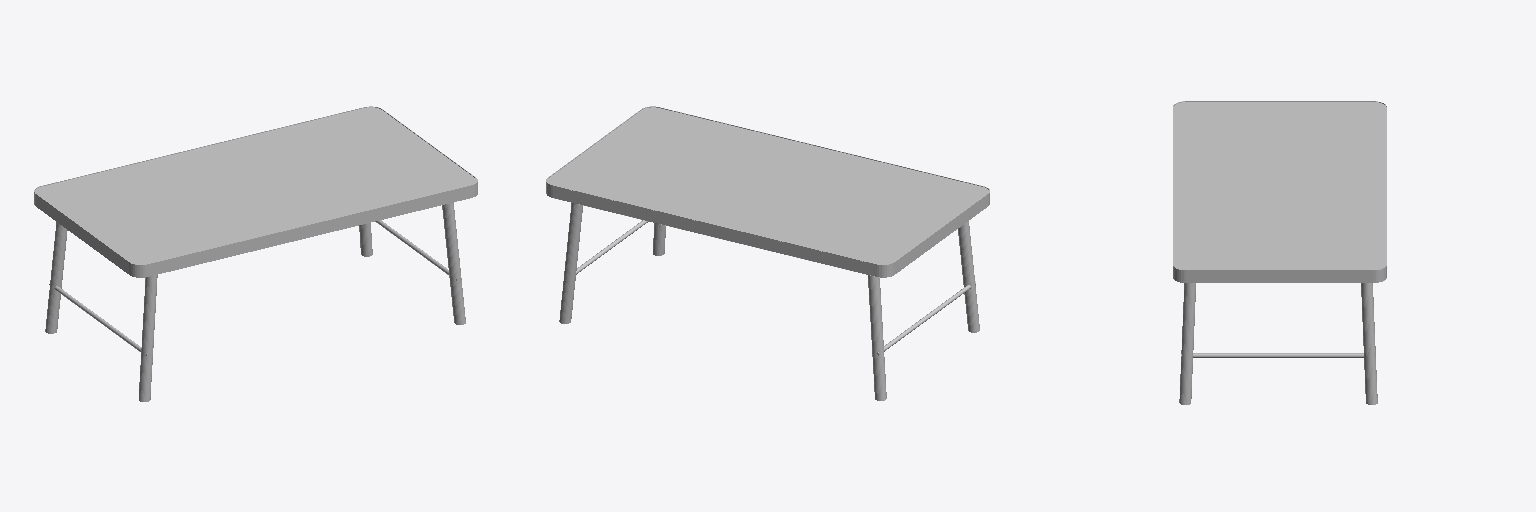
The model's file is table.obj.
3 views of the same model, side by side, from view 1: azimuth 30°, elevation 25°; view 2: azimuth 150°, elevation 25°; view 3: azimuth 270°, elevation 25° (orthographic).
Visible parts, largest first — view 1: Table_Plane.015; view 2: Table_Plane.015; view 3: Table_Plane.015.
Part boxes in pixels (left/top/right/bottom): Table_Plane.015: left=34, top=106, right=477, bottom=401; Table_Plane.015: left=546, top=106, right=989, bottom=400; Table_Plane.015: left=1173, top=101, right=1386, bottom=404.
Bounding box in the file's own units: 0.8893 × 0.344 × 0.4749.